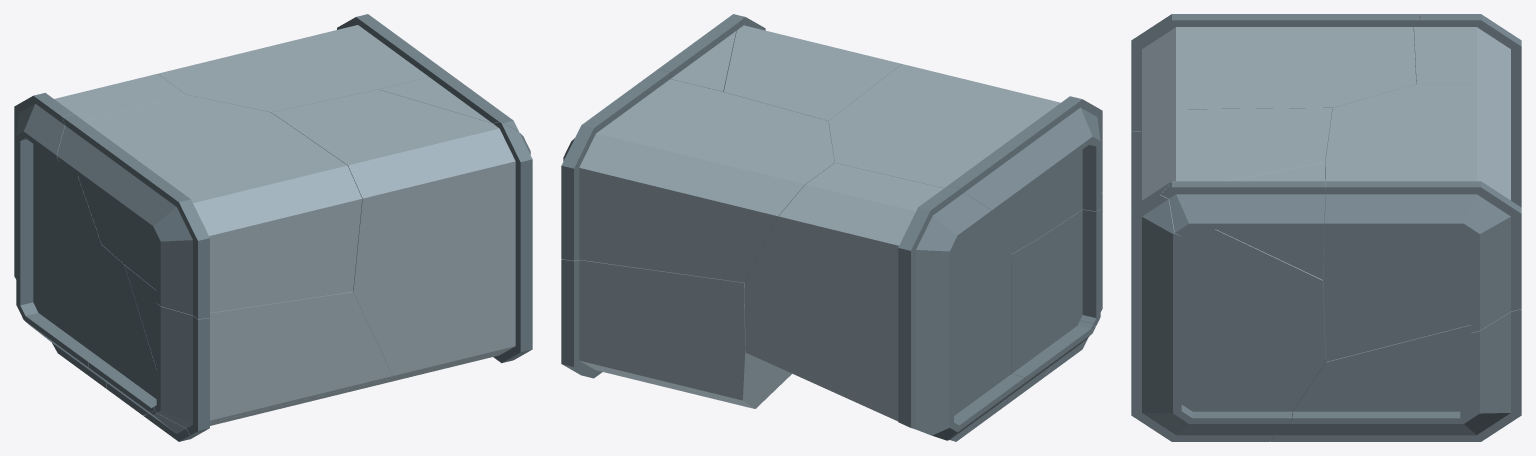
File: BombCaseExploaded.fbx
3 views of the same model, side by side, from view 1: azimuth 30°, elevation 25°; view 2: azimuth 150°, elevation 25°; view 3: azimuth 270°, elevation 25° (orthographic). The views are drawn at different scales.
Parts seen in each view (by area): view 1: BombCase_cell.005, BombCase_cell.009, BombCase_cell.008, BombCase_cell.003, BombCase_cell.004, BombCase_cell.002, BombCase_cell.007, BombCase_cell.006; view 2: BombCase_cell.003, BombCase_cell.004, BombCase_cell.005, BombCase_cell.001, BombCase_cell.009, BombCase_cell.002, BombCase_cell.008, BombCase_cell.007; view 3: BombCase_cell.009, BombCase_cell.004, BombCase_cell.005, BombCase_cell.001, BombCase_cell.007, BombCase_cell.003, BombCase_cell.008.
Part boxes in pixels (<box>): BombCase_cell.005: <box>56,94,362,319</box>; BombCase_cell.009: <box>271,89,532,382</box>; BombCase_cell.008: <box>124,265,392,435</box>; BombCase_cell.003: <box>14,74,185,388</box>; BombCase_cell.004: <box>158,14,440,112</box>; BombCase_cell.002: <box>88,245,156,415</box>; BombCase_cell.007: <box>379,67,529,149</box>; BombCase_cell.006: <box>143,379,388,441</box>; BombCase_cell.003: <box>744,163,1024,441</box>; BombCase_cell.004: <box>561,69,834,282</box>; BombCase_cell.005: <box>828,64,1102,253</box>; BombCase_cell.001: <box>561,259,791,408</box>; BombCase_cell.009: <box>723,16,901,124</box>; BombCase_cell.002: <box>1007,241,1094,404</box>; BombCase_cell.008: <box>1035,193,1102,325</box>; BombCase_cell.007: <box>658,14,743,91</box>; BombCase_cell.009: <box>1131,108,1332,441</box>; BombCase_cell.004: <box>1323,84,1521,361</box>; BombCase_cell.005: <box>1131,14,1419,131</box>; BombCase_cell.001: <box>1270,309,1521,441</box>; BombCase_cell.007: <box>1160,162,1325,279</box>; BombCase_cell.003: <box>1413,14,1521,207</box>; BombCase_cell.008: <box>1131,131,1141,207</box>.
Bounding box in the file's own units: 243 × 151 × 209.
